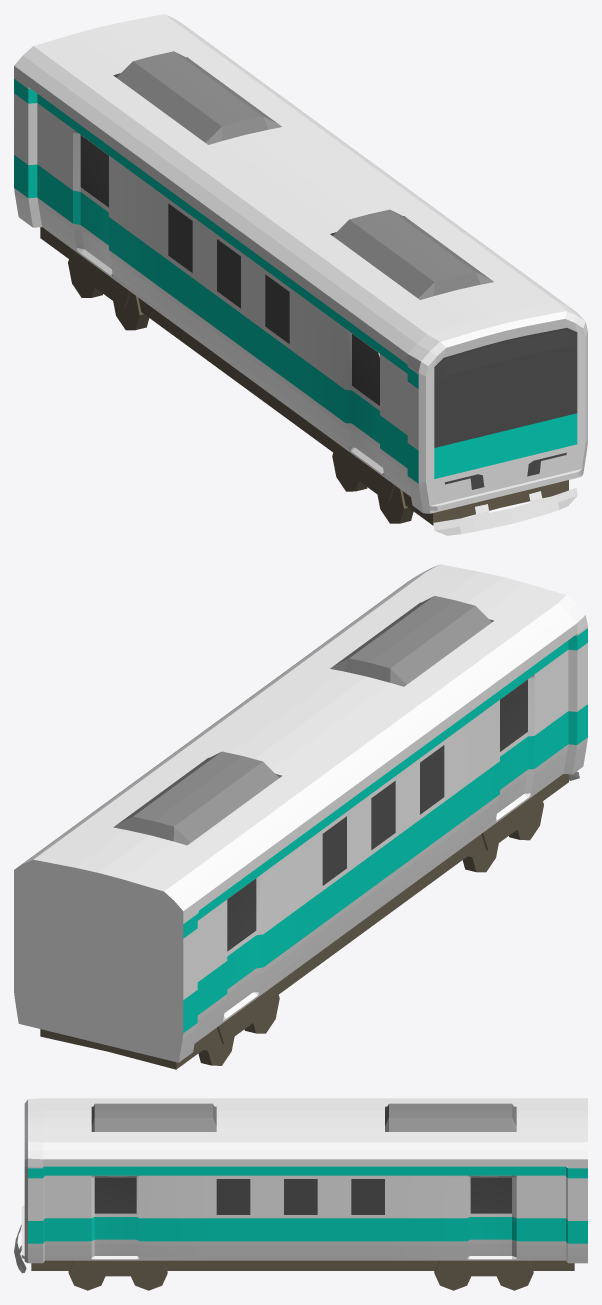
Rendered from train1.fbx.
3 renders of one model, top to bottom at view 1: azimuth 30°, elevation 25°; view 2: azimuth 150°, elevation 25°; view 3: azimuth 270°, elevation 25°, orthographic. The views are drawn at different scales.
Parts seen in each view (by area): view 1: polySurface194; view 2: polySurface194; view 3: polySurface194.
Part boxes in pixels (left/top/right/bottom): polySurface194: left=14, top=14, right=587, bottom=535; polySurface194: left=14, top=564, right=587, bottom=1069; polySurface194: left=14, top=1098, right=587, bottom=1290.
Size of the model in its own units: 1.23 by 1.57 by 5.21.
